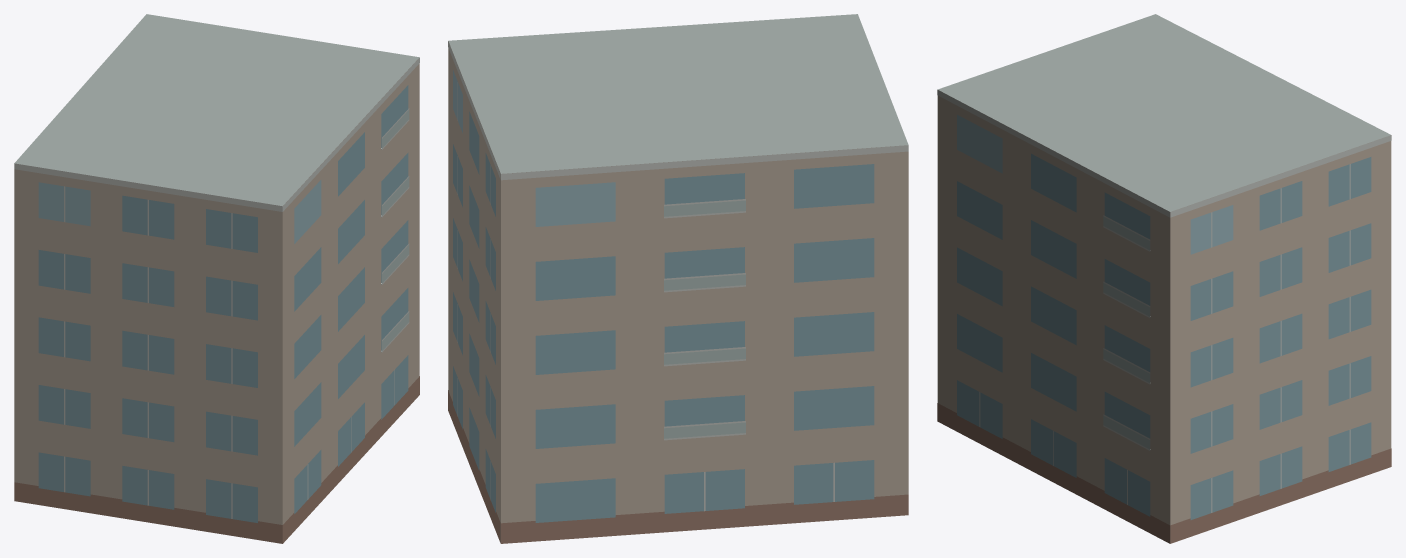
File: survey-upis-32777928.glb
The picture shows the model from 3 angles, left to right: view 1: azimuth 30°, elevation 25°; view 2: azimuth 150°, elevation 25°; view 3: azimuth 270°, elevation 25°; orthographic projection. The views are drawn at different scales.
Visible parts, largest first — view 1: survey-upis-32777928.tmp; view 2: survey-upis-32777928.tmp; view 3: survey-upis-32777928.tmp.
Part boxes in pixels (x1,y1,x2,y2): survey-upis-32777928.tmp: (14,14,419,543); survey-upis-32777928.tmp: (448,14,908,543); survey-upis-32777928.tmp: (937,14,1391,543).
Size of the model in its own units: 18.05 by 14.1 by 17.49.
